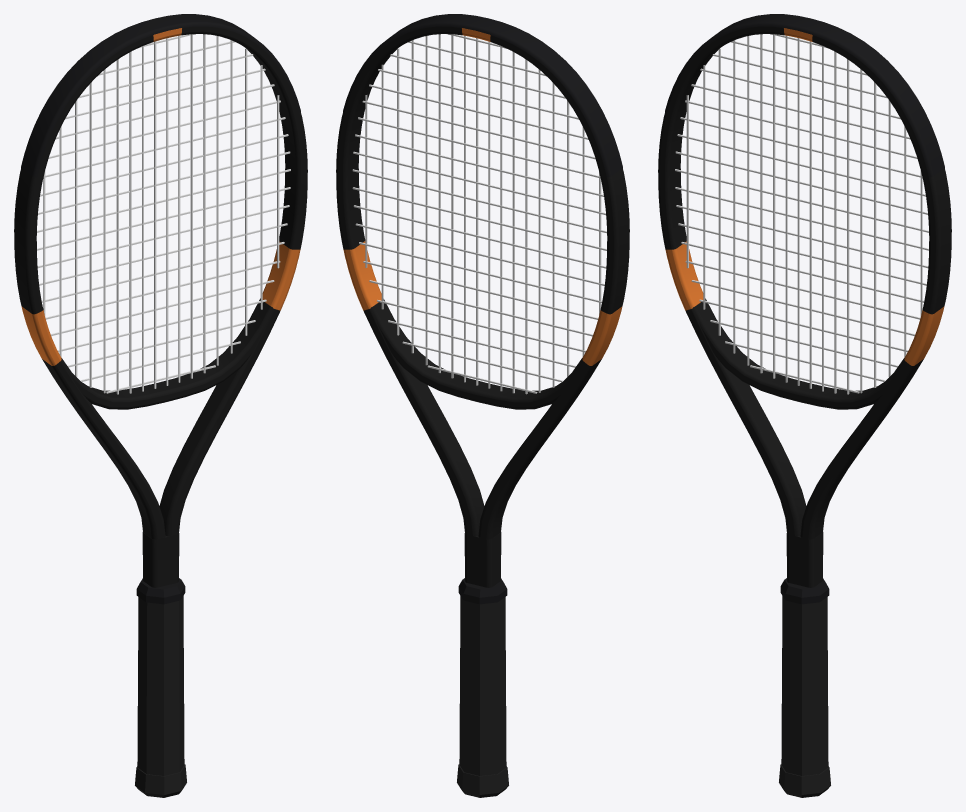
Rendered from prince-tour-100p-2026.glb.
3 views of the same model, side by side, from view 1: azimuth 30°, elevation 25°; view 2: azimuth 150°, elevation 25°; view 3: azimuth 330°, elevation 25° (orthographic).
Parts seen in each view (by area): view 1: frame, strings_mains, strings_crosses, grip, bumper, butt_cap, collar; view 2: frame, strings_mains, strings_crosses, grip, bumper, butt_cap, collar; view 3: frame, strings_mains, strings_crosses, grip, bumper, butt_cap, collar.
Boxes of the visible parts, left/top/right/bottom form: frame: left=14, top=26, right=307, bottom=587; strings_mains: left=43, top=34, right=279, bottom=394; strings_crosses: left=37, top=34, right=290, bottom=393; grip: left=137, top=596, right=184, bottom=775; bumper: left=21, top=14, right=300, bottom=177; butt_cap: left=135, top=764, right=186, bottom=797; collar: left=136, top=578, right=185, bottom=604; frame: left=336, top=26, right=629, bottom=587; strings_mains: left=365, top=34, right=601, bottom=394; strings_crosses: left=352, top=34, right=606, bottom=393; grip: left=459, top=596, right=506, bottom=775; bumper: left=343, top=14, right=622, bottom=177; butt_cap: left=457, top=764, right=508, bottom=797; collar: left=458, top=578, right=507, bottom=604; frame: left=658, top=26, right=951, bottom=587; strings_mains: left=686, top=34, right=922, bottom=394; strings_crosses: left=675, top=34, right=928, bottom=393; grip: left=781, top=596, right=828, bottom=775; bumper: left=665, top=14, right=944, bottom=177; butt_cap: left=779, top=764, right=830, bottom=797; collar: left=780, top=578, right=829, bottom=604.
Bounding box in the file's own units: 0.2649 × 0.6861 × 0.0396.
